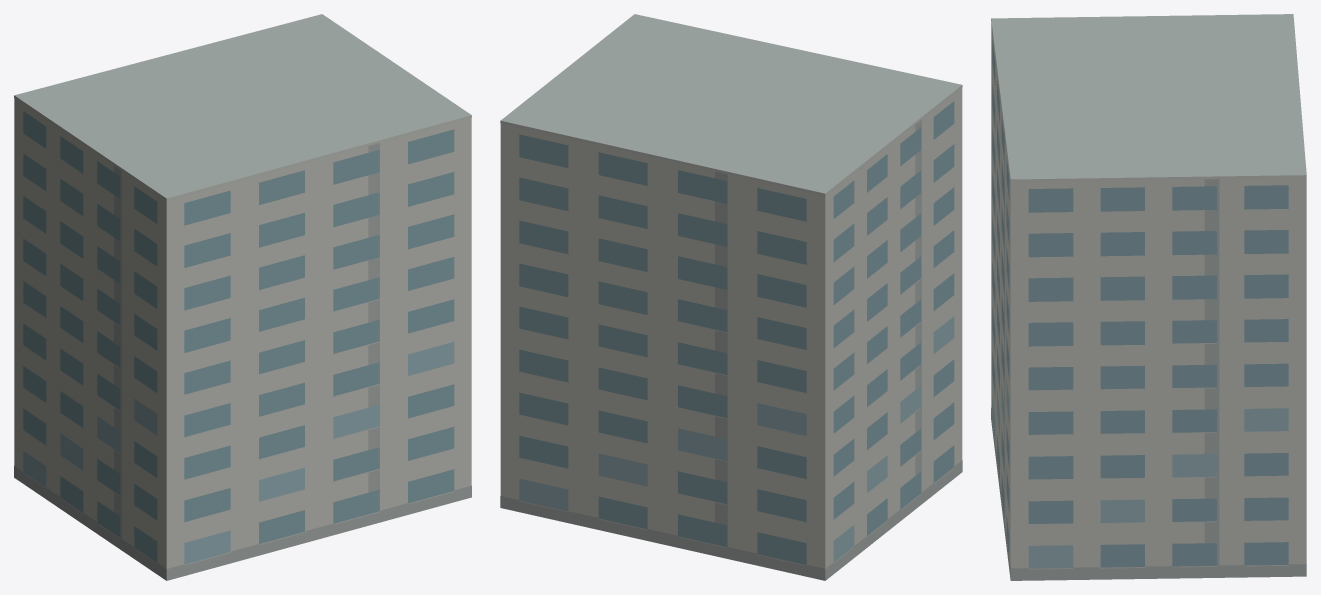
The model's file is survey-upis-33025210.glb.
3 views of the same model, side by side, from view 1: azimuth 30°, elevation 25°; view 2: azimuth 150°, elevation 25°; view 3: azimuth 270°, elevation 25° (orthographic). The views are drawn at different scales.
Parts seen in each view (by area): view 1: survey-upis-33025210.tmp; view 2: survey-upis-33025210.tmp; view 3: survey-upis-33025210.tmp.
Part boxes in pixels (left/top/right/bottom): survey-upis-33025210.tmp: left=14, top=14, right=471, bottom=580; survey-upis-33025210.tmp: left=500, top=14, right=962, bottom=580; survey-upis-33025210.tmp: left=991, top=14, right=1306, bottom=580.
Bounding box in the file's own units: 31.83 × 36 × 25.66.
